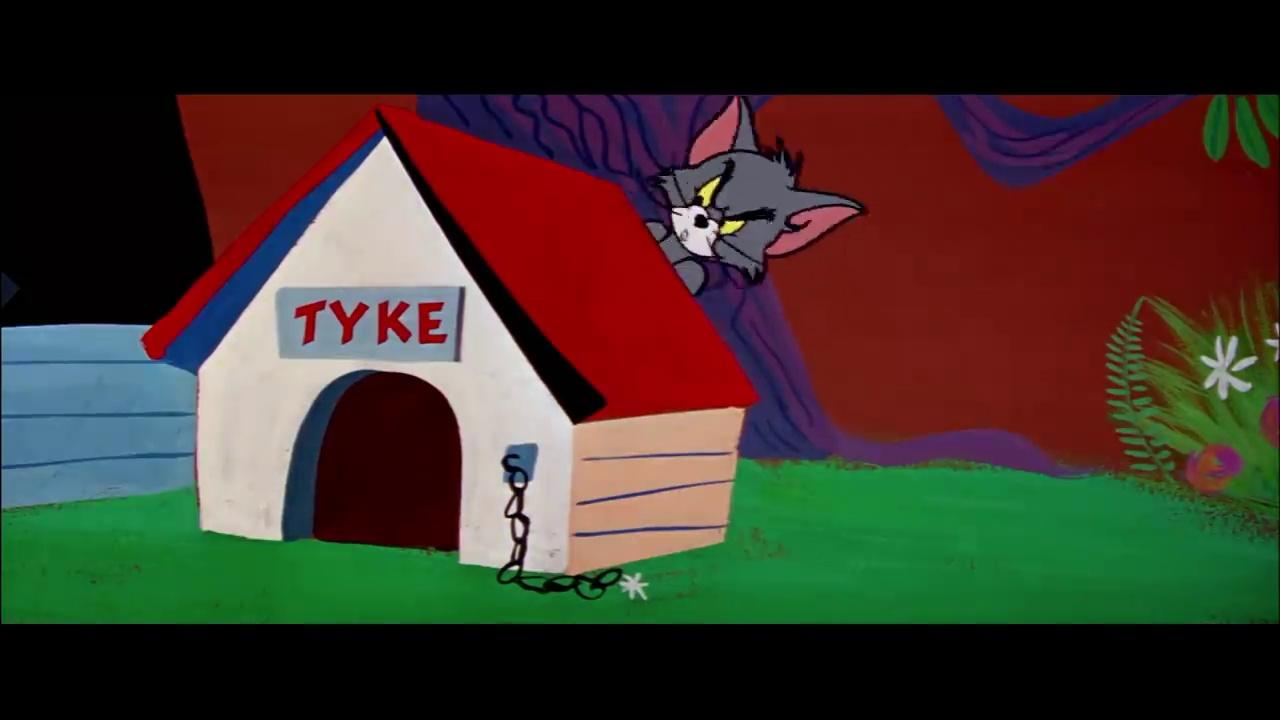Tom: (641, 93, 871, 295)
